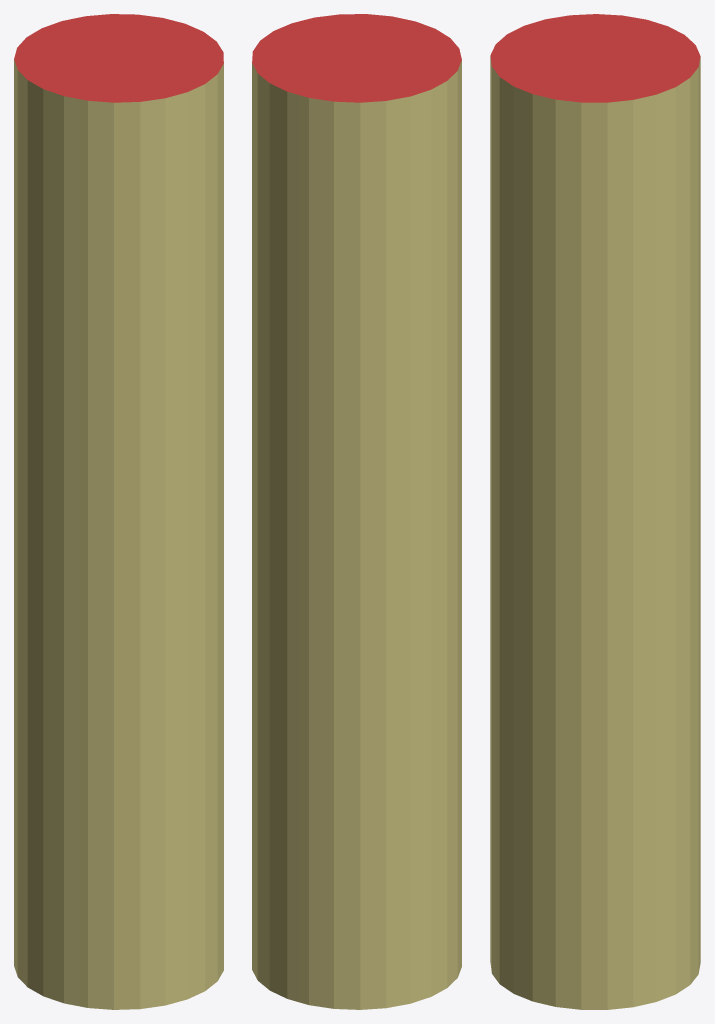
The picture shows the model from 3 angles, left to right: view 1: azimuth 30°, elevation 25°; view 2: azimuth 150°, elevation 25°; view 3: azimuth 270°, elevation 25°; orthographic projection.
Bounding box in the file's own units: 3.39 × 3.4 × 16.2.
